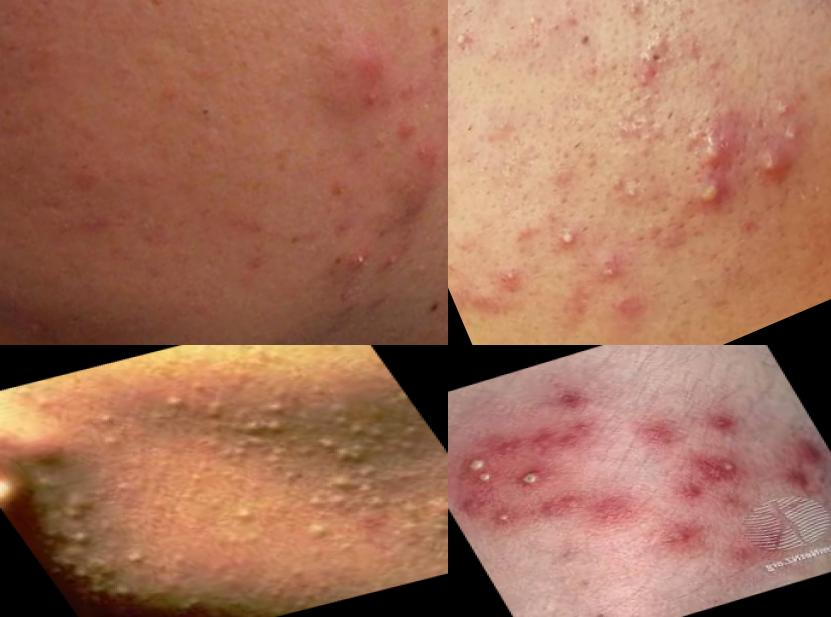blackhead: (614, 35, 683, 102), (179, 87, 242, 153), (605, 111, 670, 160), (682, 263, 725, 305)
cystic: (680, 120, 744, 180)
folliculitis: (507, 464, 551, 499), (485, 503, 526, 535), (458, 451, 492, 477), (468, 466, 500, 489)
papular: (295, 30, 402, 116), (755, 428, 831, 508), (528, 372, 603, 430), (633, 405, 703, 456), (646, 522, 702, 563), (533, 493, 589, 521)
purulent: (328, 233, 388, 301), (678, 175, 735, 238), (545, 219, 589, 263), (449, 16, 486, 66), (609, 178, 648, 219), (757, 146, 793, 190), (773, 115, 810, 154), (766, 92, 802, 128), (711, 453, 749, 483)
whitehead: (286, 463, 401, 525), (301, 418, 404, 473), (146, 370, 241, 429), (220, 398, 313, 445), (235, 439, 316, 488), (384, 487, 449, 539), (49, 487, 118, 527), (587, 247, 634, 294), (73, 547, 127, 581), (293, 516, 347, 550), (86, 424, 138, 456), (222, 498, 274, 529), (83, 404, 129, 433), (56, 524, 103, 551), (490, 263, 527, 297), (114, 544, 160, 571), (104, 578, 148, 606), (517, 3, 552, 37), (473, 36, 507, 69)
